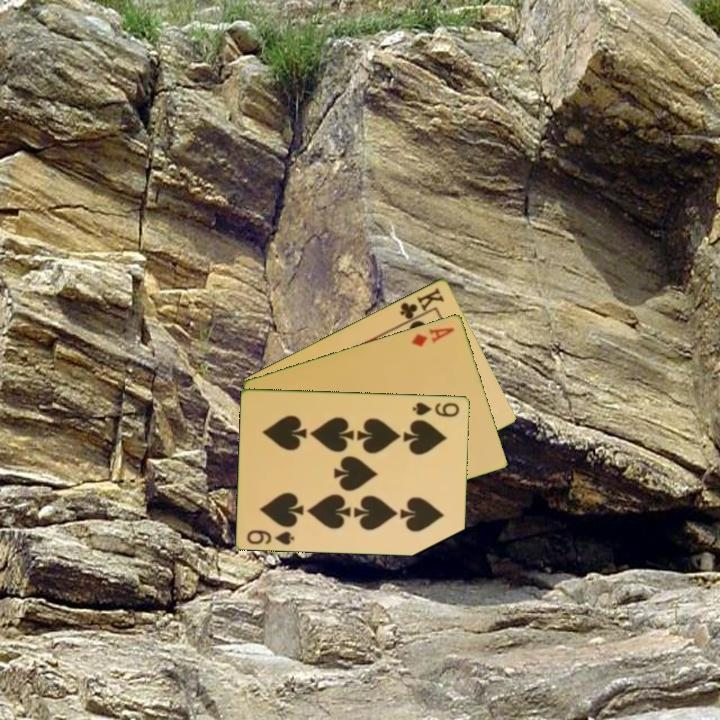9s: (409, 398, 462, 420), (243, 526, 298, 547)
Ad: (408, 323, 457, 349)
Kc: (396, 284, 447, 326)
